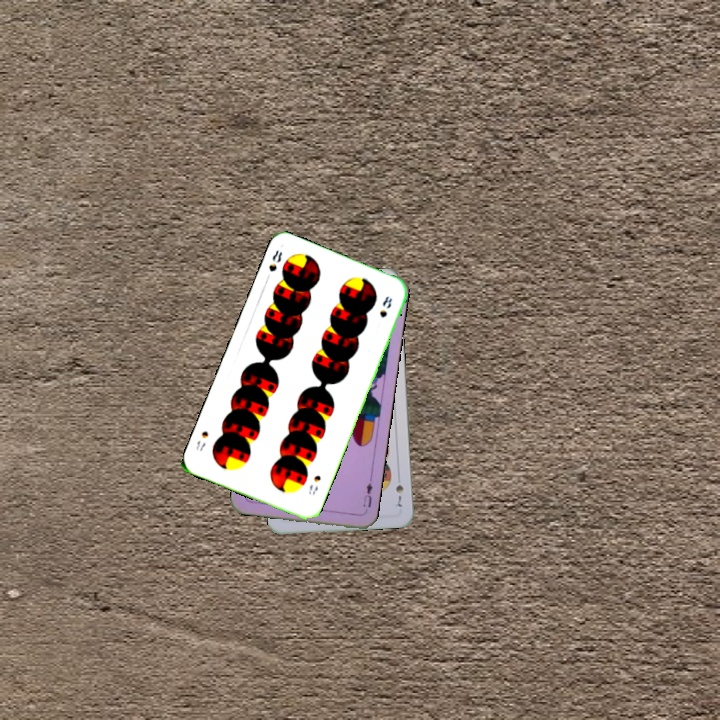EU: (359, 479, 375, 515)
S7: (391, 481, 406, 511)
S8: (262, 246, 285, 284), (304, 471, 323, 497)
